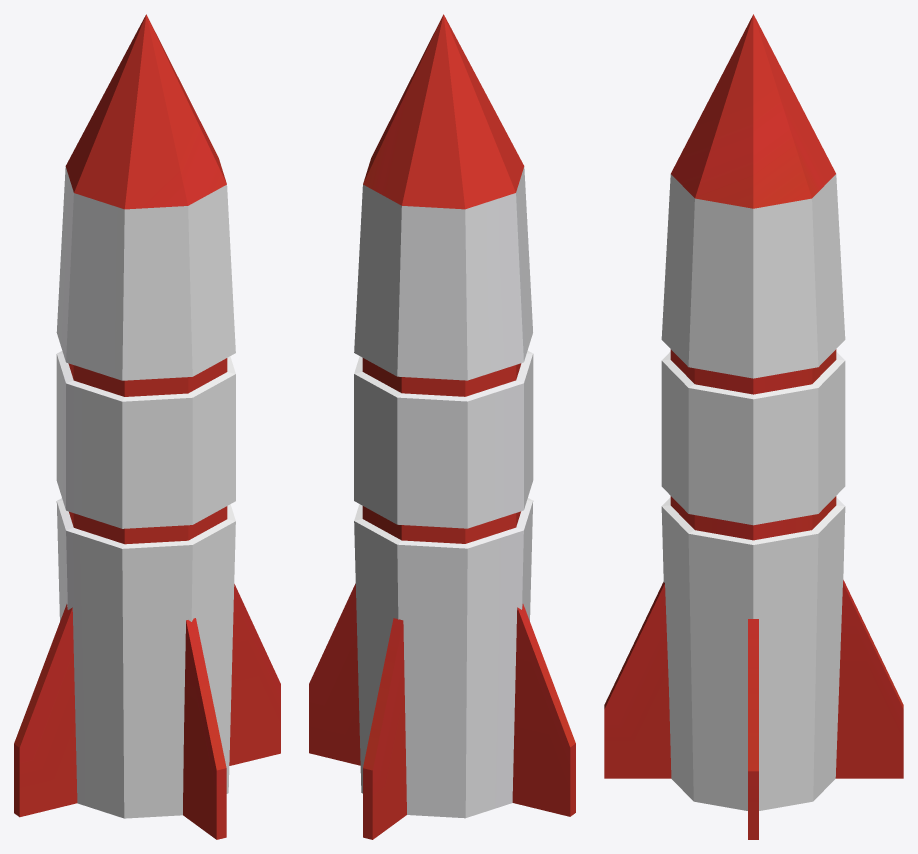
File: Missile.fbx
The picture shows the model from 3 angles, left to right: view 1: azimuth 30°, elevation 25°; view 2: azimuth 150°, elevation 25°; view 3: azimuth 270°, elevation 25°; orthographic projection.
Parts seen in each view (by area): view 1: Missile; view 2: Missile; view 3: Missile.
Boxes of the visible parts, bbox=[...] form: Missile: bbox=[14, 14, 280, 839]; Missile: bbox=[309, 14, 575, 839]; Missile: bbox=[604, 14, 903, 839].
Size of the model in its own units: 130 by 366 by 130.
